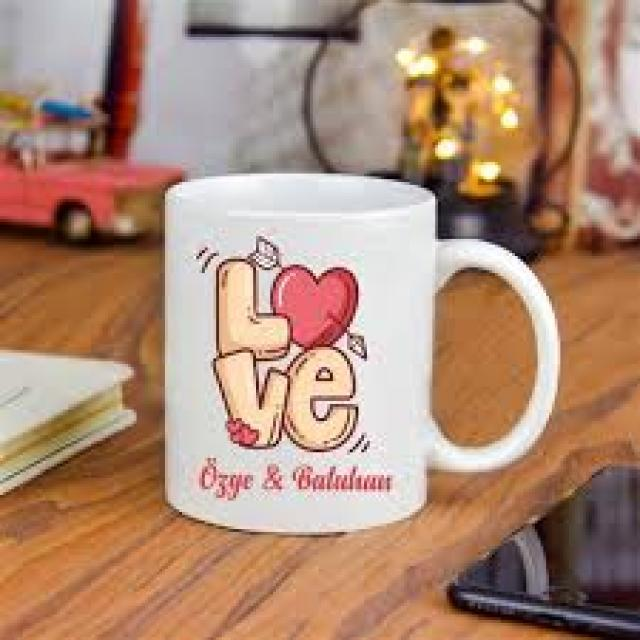taza: (164, 172, 562, 537)
